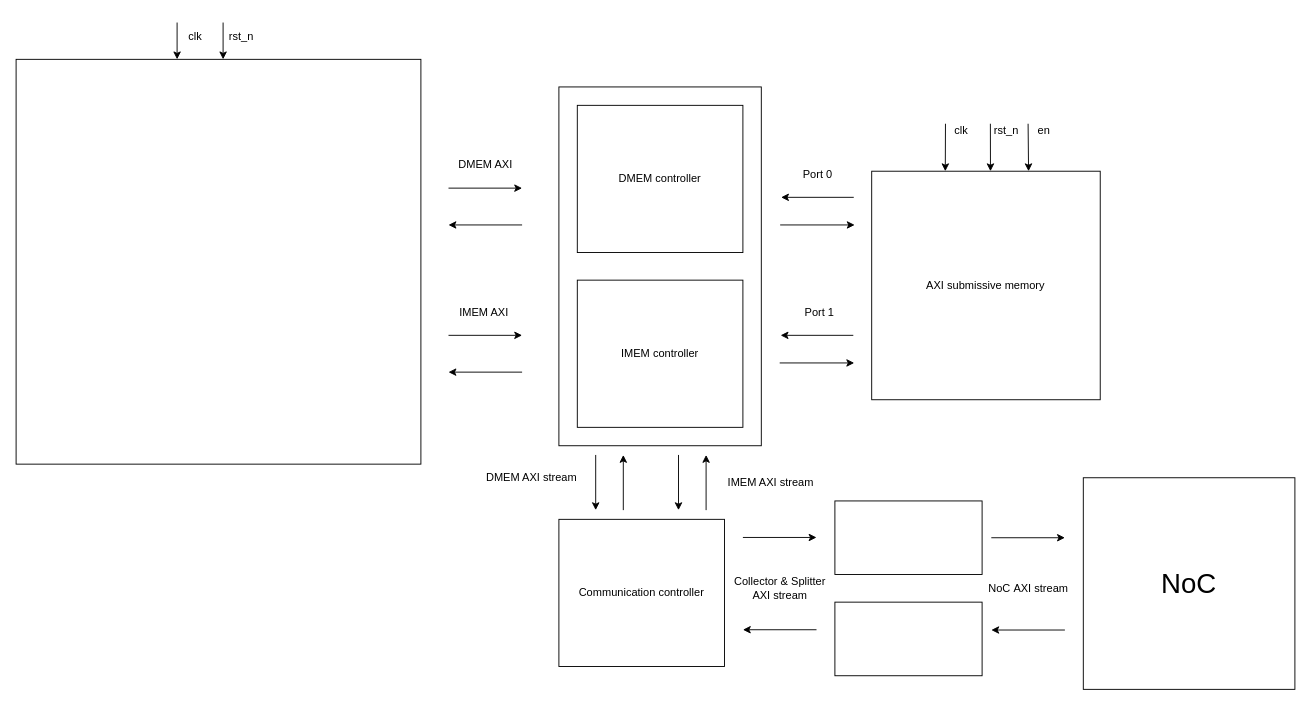
The diagram is 1311 pixels wide and 706 high, and some of its shapes have lost their labels. The shapes that lost their labels are listed below. From the top down, each one's centre as x and y in pixels, then its label:
At (218,261): "Core".
At (908,537): "Splitter".
At (908,638): "Collector".
